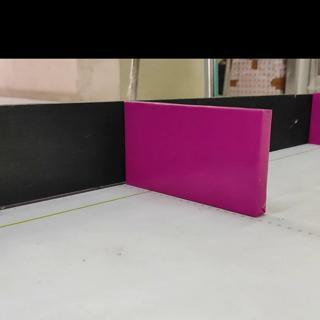xparking: (126, 113, 268, 208)
